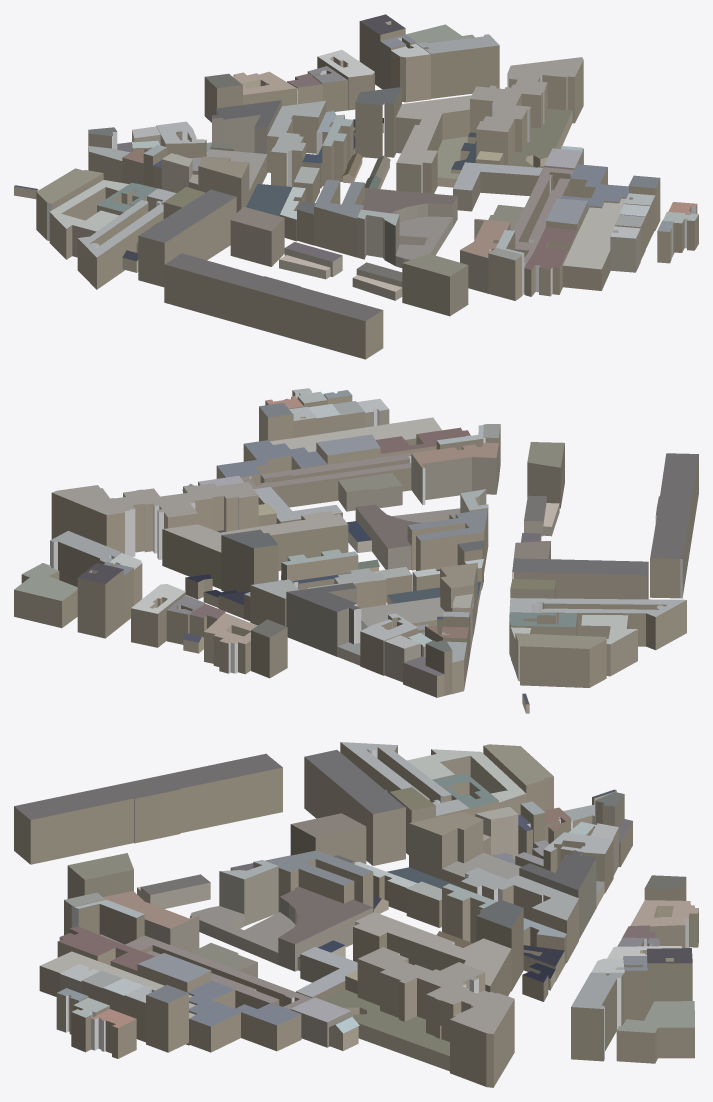
3 renders of one model, top to bottom at view 1: azimuth 30°, elevation 25°; view 2: azimuth 150°, elevation 25°; view 3: azimuth 270°, elevation 25°, orthographic. The views are drawn at different scales.
Parts seen in each view (by area): view 1: tuile; view 2: tuile; view 3: tuile.
Boxes of the visible parts, x1,y1,x2,y2 form: tuile: (14,14,698,359); tuile: (14,388,698,713); tuile: (14,742,698,1087).
Bounding box in the file's own units: 308 × 31 × 285.
